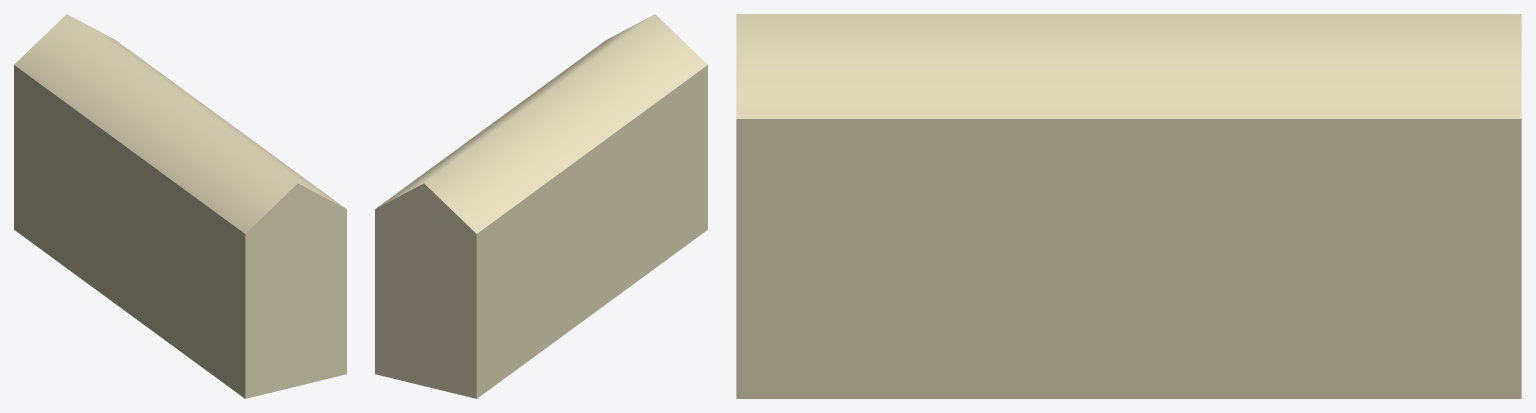
File: house 2.fbx
3 views of the same model, side by side, from view 1: azimuth 30°, elevation 25°; view 2: azimuth 150°, elevation 25°; view 3: azimuth 270°, elevation 25° (orthographic). The views are drawn at different scales.
Visible parts, largest first — view 1: pCube83; view 2: pCube83; view 3: pCube83.
Part boxes in pixels (box(x1,y1,x2,y2)): pCube83: box(14, 14, 346, 398); pCube83: box(375, 14, 707, 398); pCube83: box(736, 14, 1521, 398).
Size of the model in its own units: 2055 by 3920 by 8098.
